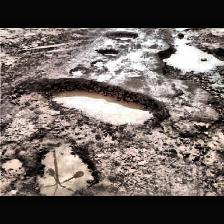pothole: (10, 76, 166, 134), (156, 29, 224, 118), (34, 140, 100, 196), (189, 119, 223, 135), (106, 31, 138, 42), (0, 158, 23, 170), (69, 66, 89, 76), (92, 60, 106, 70), (98, 50, 118, 56)
